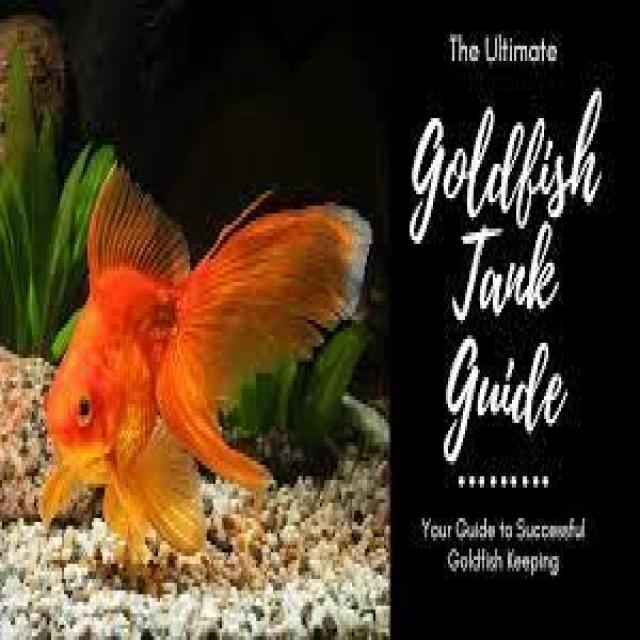Gold-Fish: (19, 106, 362, 620)
